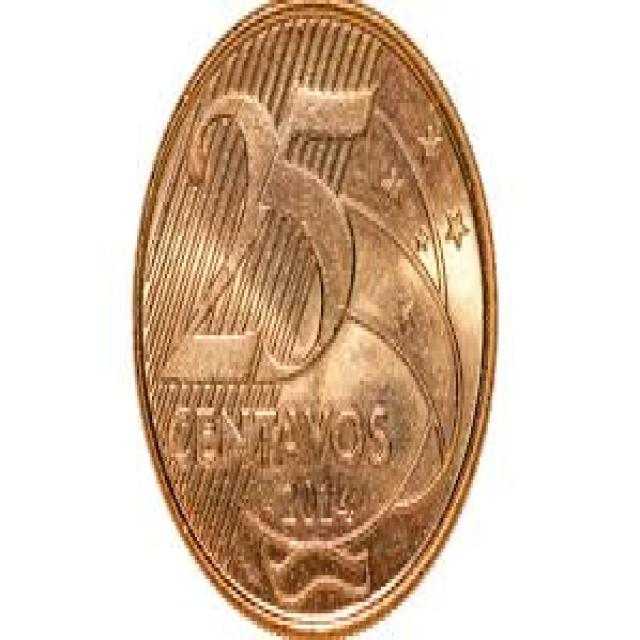25 cent: (142, 0, 496, 628)
